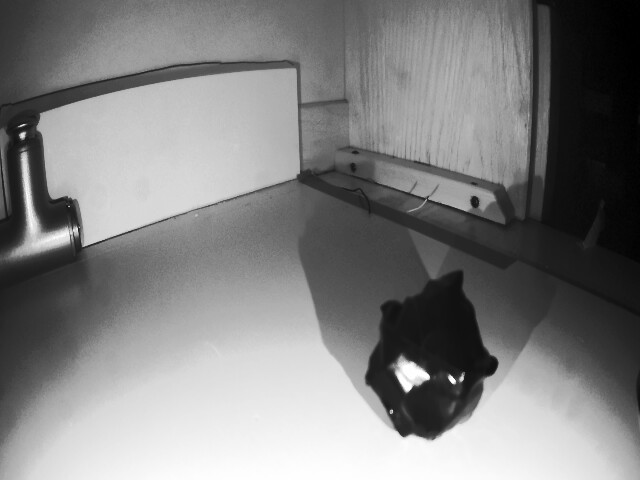silver: (362, 283, 490, 439)
